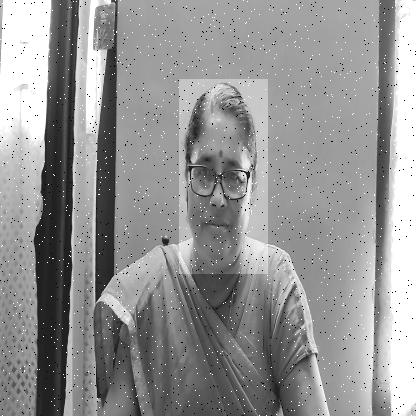Normal: (179, 79, 268, 274)
